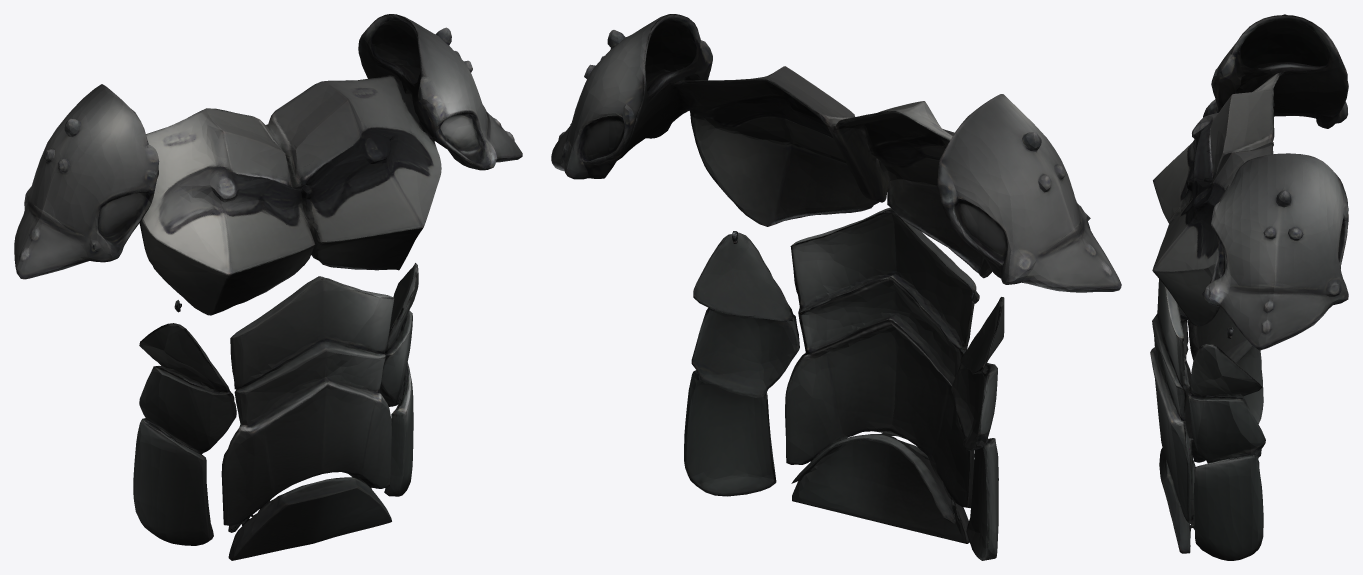
Rendered from batman.glb.
The picture shows the model from 3 angles, left to right: view 1: azimuth 30°, elevation 25°; view 2: azimuth 150°, elevation 25°; view 3: azimuth 270°, elevation 25°; orthographic projection. The views are drawn at different scales.
Visible parts, largest first — view 1: world; view 2: world; view 3: world.
Part boxes in pixels (left/top/right/bottom): world: left=14, top=14, right=522, bottom=560; world: left=551, top=14, right=1121, bottom=560; world: left=1150, top=14, right=1348, bottom=560.
Size of the model in its own units: 0.9997 by 0.8544 by 0.3546.
Materials: 1 (1 with a texture image).
